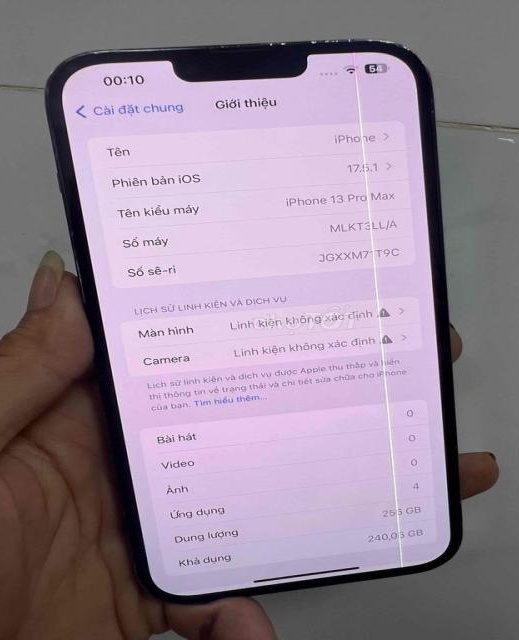screen_defect: (319, 58, 428, 578)
